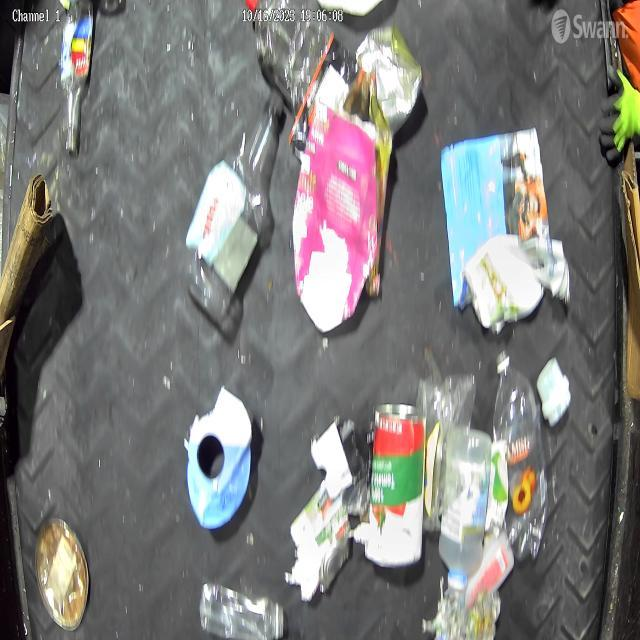can: (371, 402, 427, 568), (356, 24, 424, 136), (290, 498, 350, 599), (38, 515, 90, 628)
milk_jug: (464, 234, 570, 334)
non_white_jug: (292, 104, 380, 330), (186, 387, 254, 528)
plastic_bottle: (182, 88, 284, 323), (492, 354, 548, 562), (438, 424, 493, 592), (245, 0, 333, 95), (198, 580, 286, 640), (60, 0, 93, 154)
